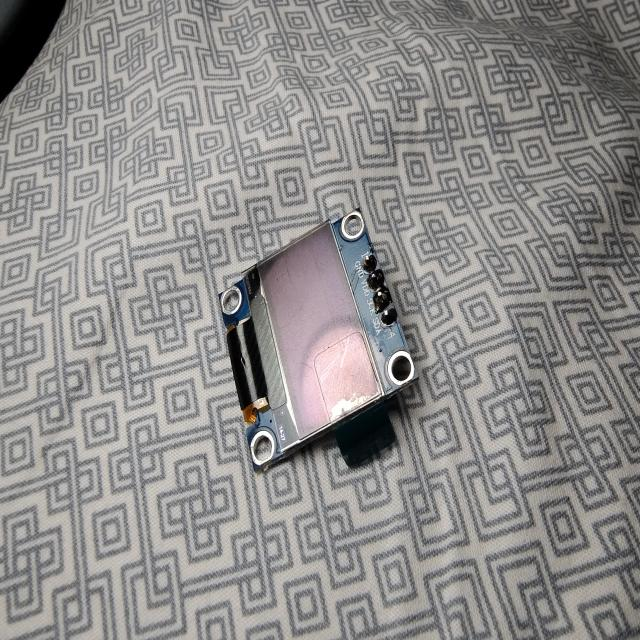oled: (218, 207, 429, 484)
